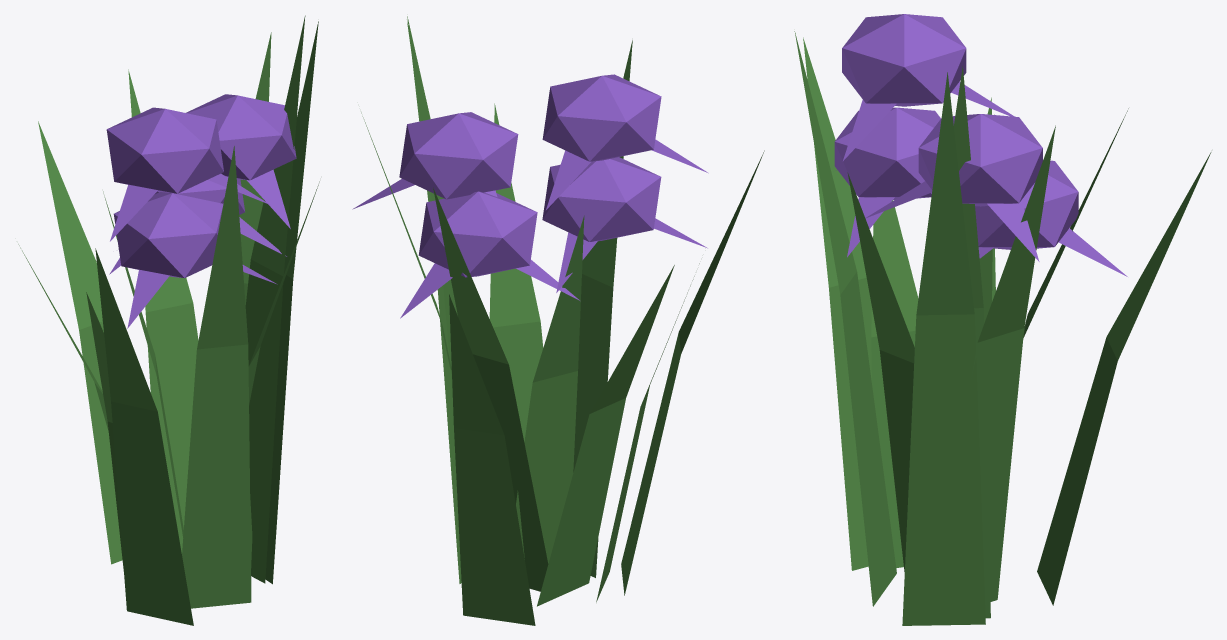
The model's file is reeds.fbx.
3 renders of one model, left to right at view 1: azimuth 30°, elevation 25°; view 2: azimuth 150°, elevation 25°; view 3: azimuth 270°, elevation 25°, orthographic. The views are drawn at different scales.
Visible parts, largest first — view 1: Reed_Leaf, Reed_Flower; view 2: Reed_Leaf, Reed_Flower; view 3: Reed_Leaf, Reed_Flower.
Part boxes in pixels (x1,y1,x2,y2): Reed_Leaf: (18, 15, 319, 625); Reed_Flower: (106, 94, 296, 328); Reed_Leaf: (361, 16, 764, 625); Reed_Flower: (352, 74, 708, 318); Reed_Leaf: (794, 31, 1211, 625); Reed_Flower: (834, 14, 1127, 276).
Bounding box in the file's own units: 1.48 × 2.51 × 1.6.
